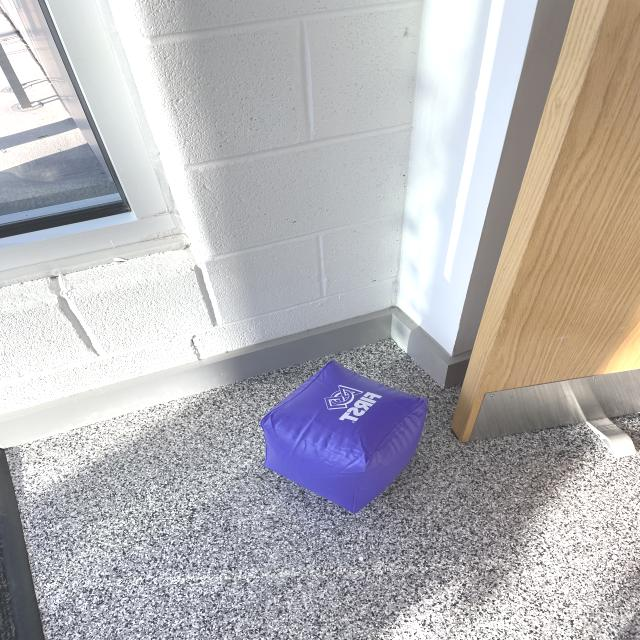frc_cube: (237, 357, 448, 515)
